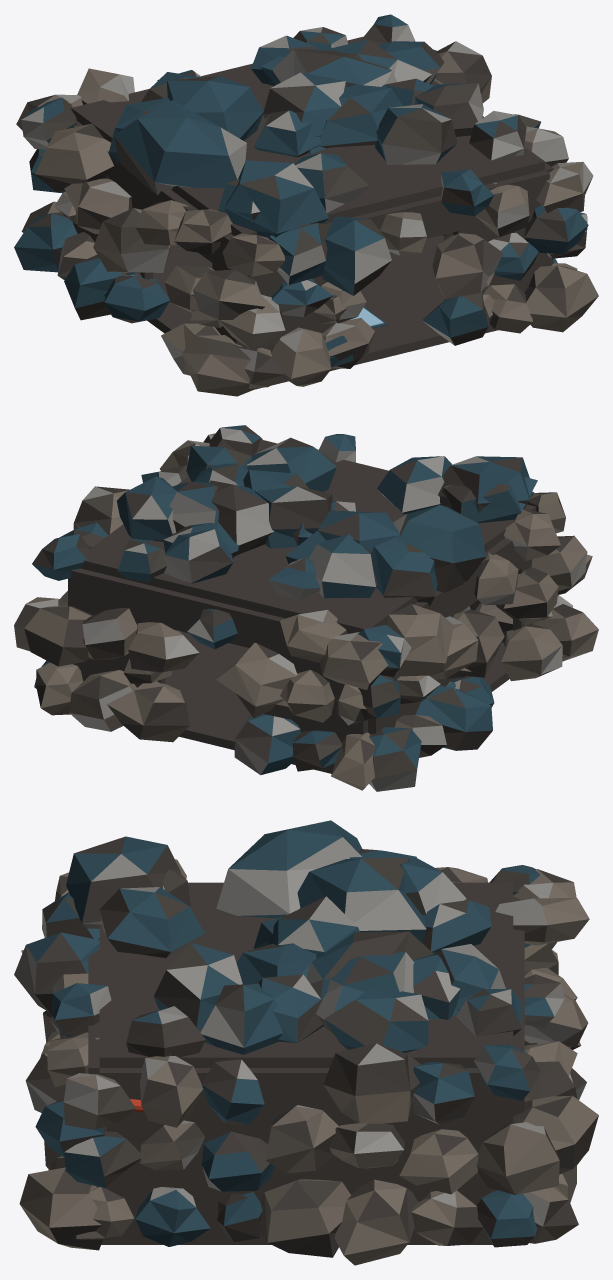
Rendered from Cave_Flooded_Chamber.fbx.
3 views of the same model, one above another, from view 1: azimuth 30°, elevation 25°; view 2: azimuth 150°, elevation 25°; view 3: azimuth 270°, elevation 25° (orthographic). The views are drawn at different scales.
Visible parts, largest first — view 1: Decor, Ceiling1, Floor1, Wall4, Wall9, Wall3, Wall7, Wall10, Wall6; view 2: Decor, Ceiling1, Floor1, Wall2, Wall8, Wall1, Wall7, Wall10; view 3: Decor, Wall5, Ceiling1, Floor1, Wall8, Wall4.
Boxes of the visible parts, x1=… form: Decor: x1=14, y1=14, x2=598, y2=396; Ceiling1: x1=71, y1=36, x2=544, y2=235; Floor1: x1=147, y1=235, x2=498, y2=389; Wall4: x1=453, y1=170, x2=549, y2=328; Wall9: x1=352, y1=196, x2=457, y2=238; Wall3: x1=244, y1=222, x2=335, y2=379; Wall7: x1=63, y1=121, x2=152, y2=279; Wall10: x1=144, y1=185, x2=212, y2=262; Wall6: x1=212, y1=233, x2=244, y2=346; Decor: x1=14, y1=425, x2=598, y2=791; Ceiling1: x1=81, y1=440, x2=536, y2=633; Floor1: x1=165, y1=631, x2=509, y2=773; Wall2: x1=71, y1=568, x2=165, y2=687; Wall8: x1=160, y1=589, x2=278, y2=651; Wall1: x1=274, y1=617, x2=367, y2=770; Wall7: x1=368, y1=588, x2=455, y2=734; Wall10: x1=455, y1=538, x2=521, y2=613; Decor: x1=14, y1=820, x2=598, y2=1265; Wall5: x1=99, y1=1068, x2=513, y2=1239; Ceiling1: x1=99, y1=882, x2=513, y2=1067; Floor1: x1=101, y1=1239, x2=492, y2=1244; Wall8: x1=513, y1=946, x2=524, y2=1014; Wall4: x1=88, y1=1021, x2=99, y2=1187.
Size of the model in its own units: 50.09 by 24.73 by 50.92.
